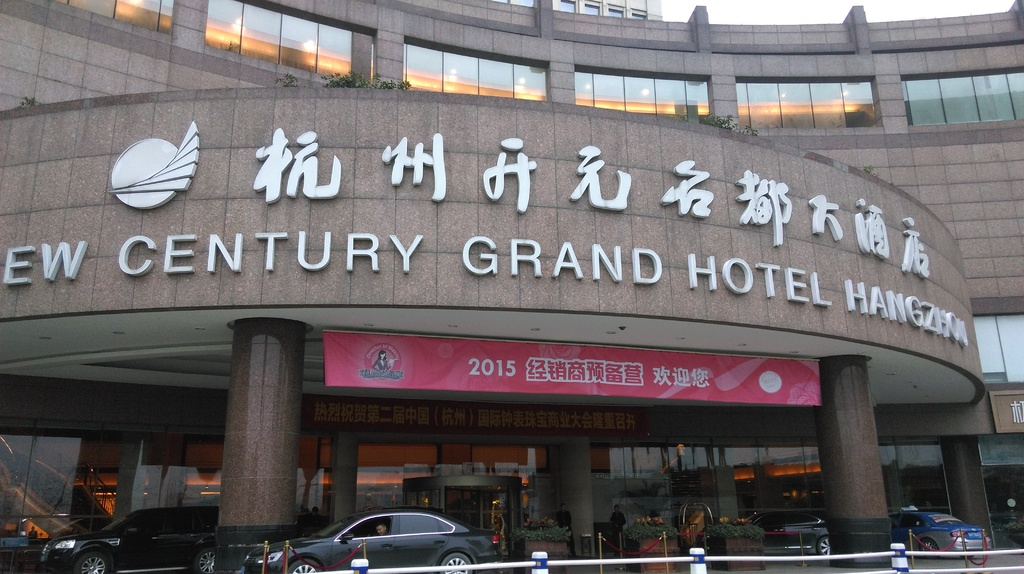Wheel: (79, 554, 104, 573), (194, 550, 214, 573), (441, 554, 463, 573), (286, 559, 319, 571), (815, 539, 829, 562), (922, 540, 934, 554)
